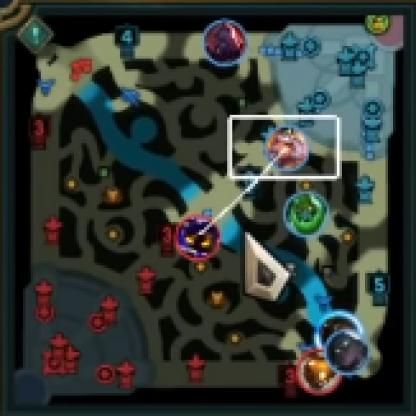Bard: (298, 350, 342, 394)
Qiyana: (266, 126, 310, 169)
Senna: (325, 331, 371, 372)
Sion: (204, 20, 247, 64)
Veigar: (176, 216, 221, 259)
Zac: (284, 191, 330, 237)
